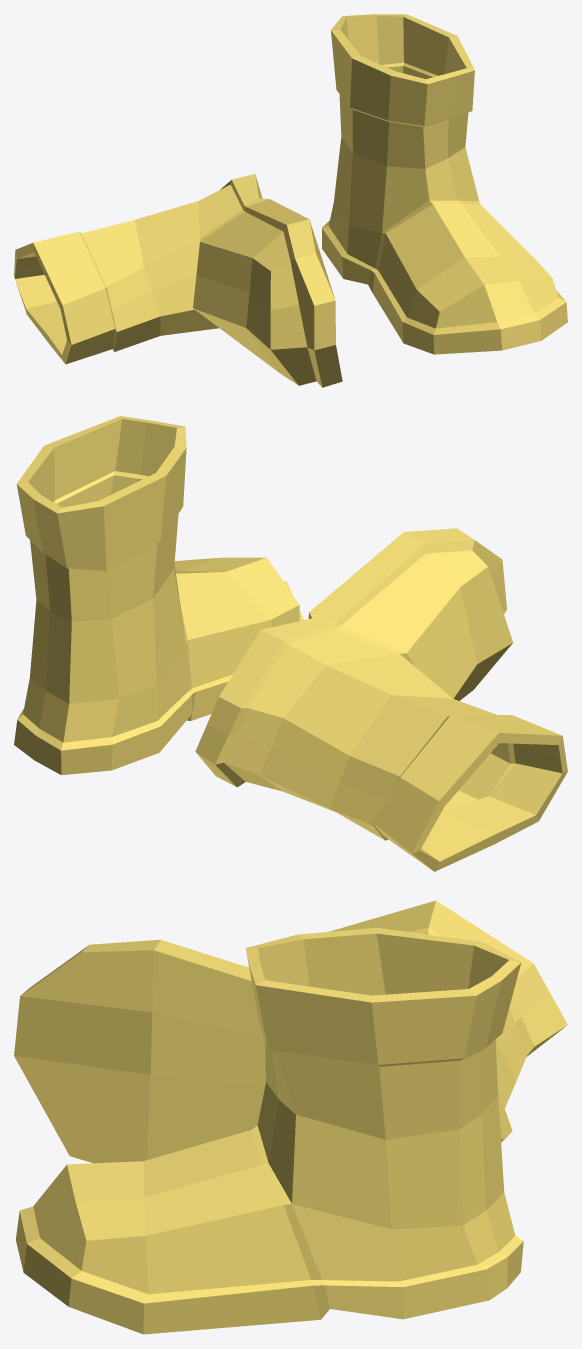
File: Boots_2.fbx
The picture shows the model from 3 angles, top to bottom: view 1: azimuth 30°, elevation 25°; view 2: azimuth 150°, elevation 25°; view 3: azimuth 270°, elevation 25°; orthographic projection. The views are drawn at different scales.
Parts seen in each view (by area): view 1: Boots_2; view 2: Boots_2; view 3: Boots_2.
Part boxes in pixels (x1,y1,x2,y2): Boots_2: [14, 14, 567, 387]; Boots_2: [14, 416, 567, 871]; Boots_2: [14, 900, 567, 1334].
Bounding box in the file's own units: 64.33 × 49.72 × 32.65.
